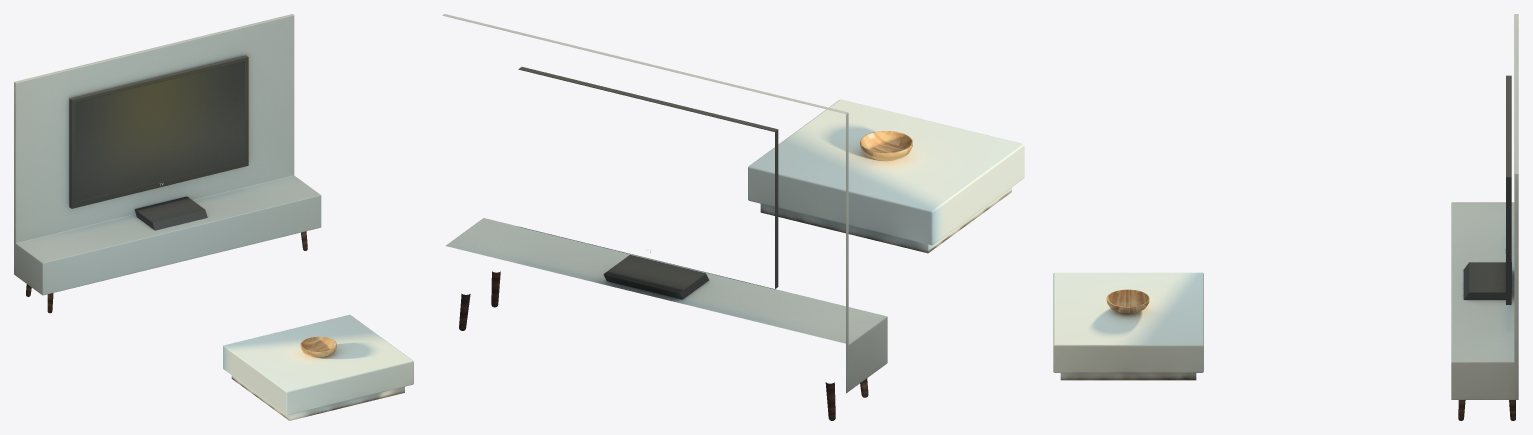
Rendered from Table&tv.glb.
3 renders of one model, left to right at view 1: azimuth 30°, elevation 25°; view 2: azimuth 150°, elevation 25°; view 3: azimuth 270°, elevation 25°, orthographic. The views are drawn at different scales.
Visible parts, largest first — view 1: SM_Tv_Rack_cTable_Bowl1_surfaceShader27_0, SM_Tv_Rack_cTable_Bowl1_surfaceShader27_0.001; view 2: SM_Tv_Rack_cTable_Bowl1_surfaceShader27_0.001, SM_Tv_Rack_cTable_Bowl1_surfaceShader27_0; view 3: SM_Tv_Rack_cTable_Bowl1_surfaceShader27_0.001, SM_Tv_Rack_cTable_Bowl1_surfaceShader27_0.
Boxes of the visible parts, x1=… form: SM_Tv_Rack_cTable_Bowl1_surfaceShader27_0: x1=14, y1=14, x2=321, y2=313; SM_Tv_Rack_cTable_Bowl1_surfaceShader27_0.001: x1=223, y1=314, x2=413, y2=420; SM_Tv_Rack_cTable_Bowl1_surfaceShader27_0.001: x1=748, y1=99, x2=1024, y2=253; SM_Tv_Rack_cTable_Bowl1_surfaceShader27_0: x1=442, y1=14, x2=887, y2=420; SM_Tv_Rack_cTable_Bowl1_surfaceShader27_0.001: x1=1053, y1=272, x2=1203, y2=380; SM_Tv_Rack_cTable_Bowl1_surfaceShader27_0: x1=1451, y1=14, x2=1518, y2=420.
Size of the model in its own units: 2.2 by 1.63 by 2.71.
1 material, 1 textured.
